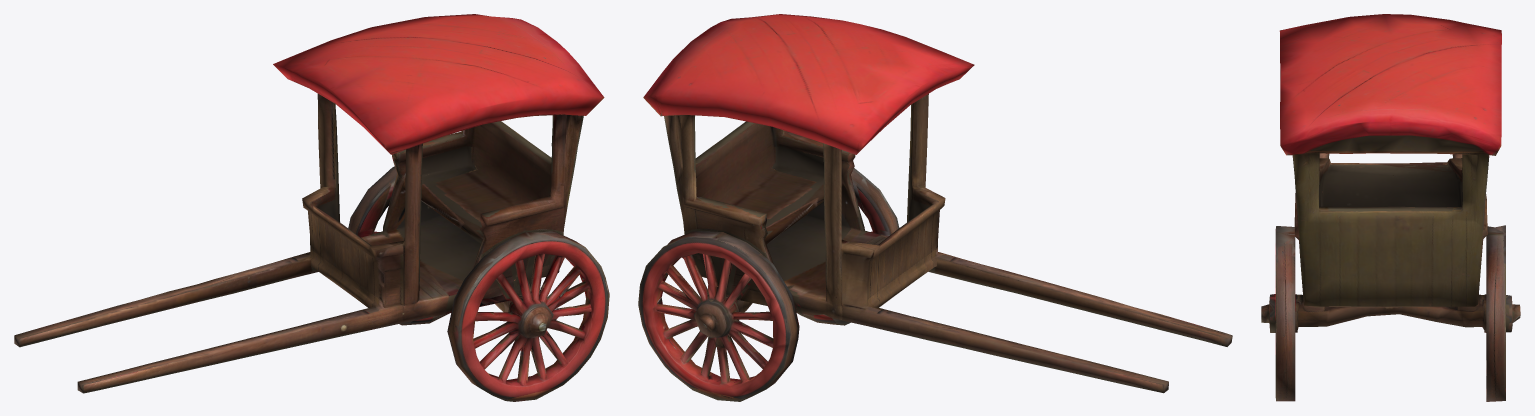
File: Slay.fbx
3 renders of one model, left to right at view 1: azimuth 30°, elevation 25°; view 2: azimuth 150°, elevation 25°; view 3: azimuth 270°, elevation 25°, orthographic.
Parts seen in each view (by area): view 1: input; view 2: input; view 3: input.
Boxes of the visible parts, x1,y1,x2,y2 form: input: [14, 14, 609, 401]; input: [638, 14, 1232, 401]; input: [1261, 14, 1520, 401].
Bounding box in the file's own units: 330 × 200 × 146.
Materials: 1 (1 with a texture image).
